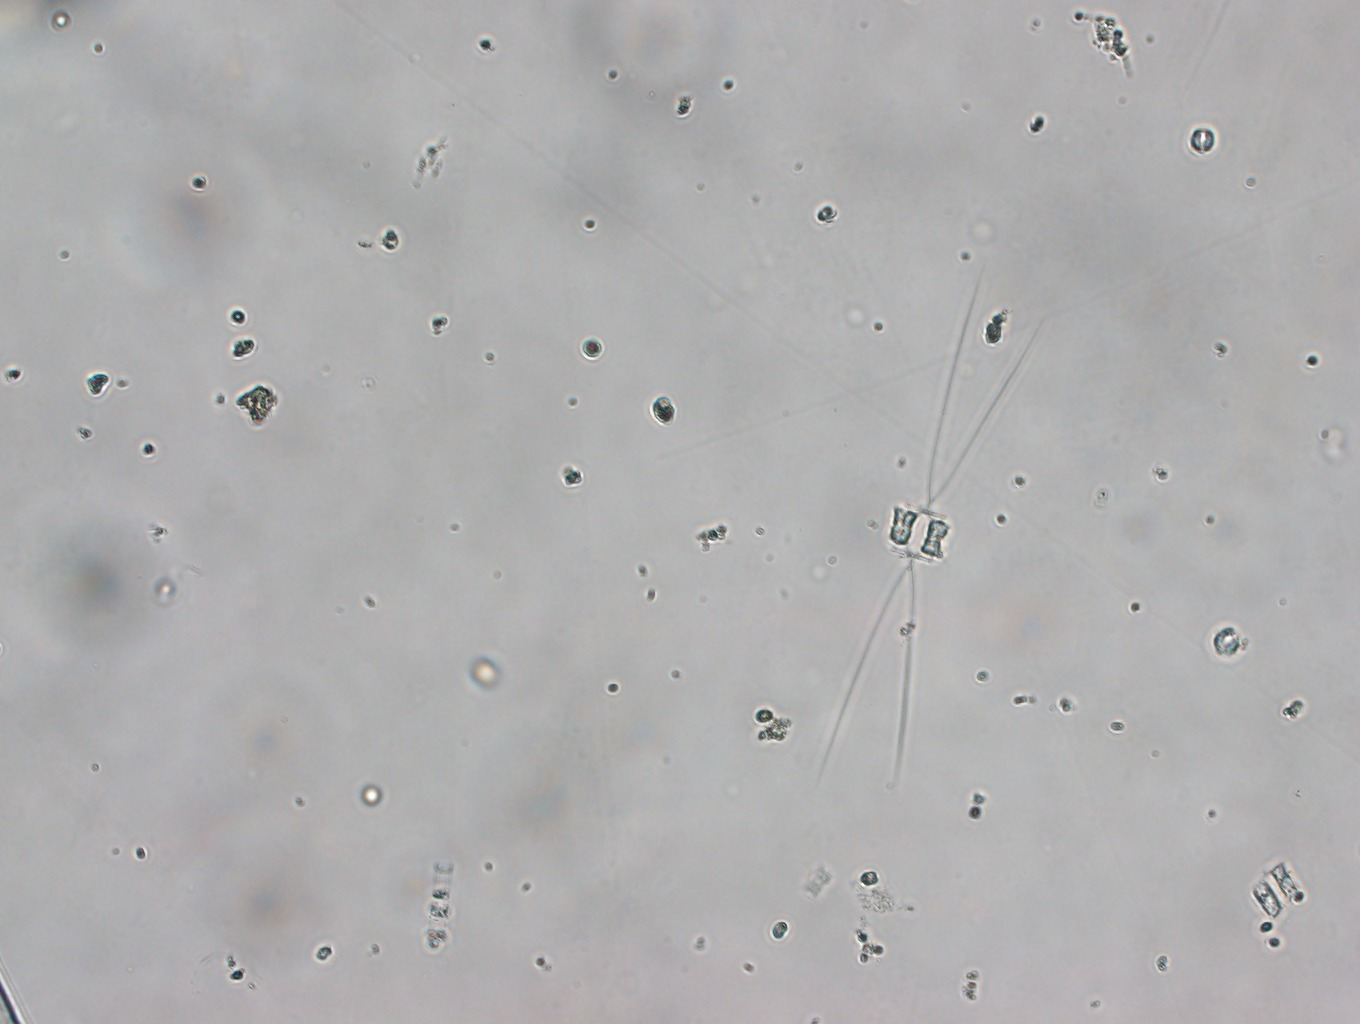chaetoceros: (817, 246, 1047, 784)
